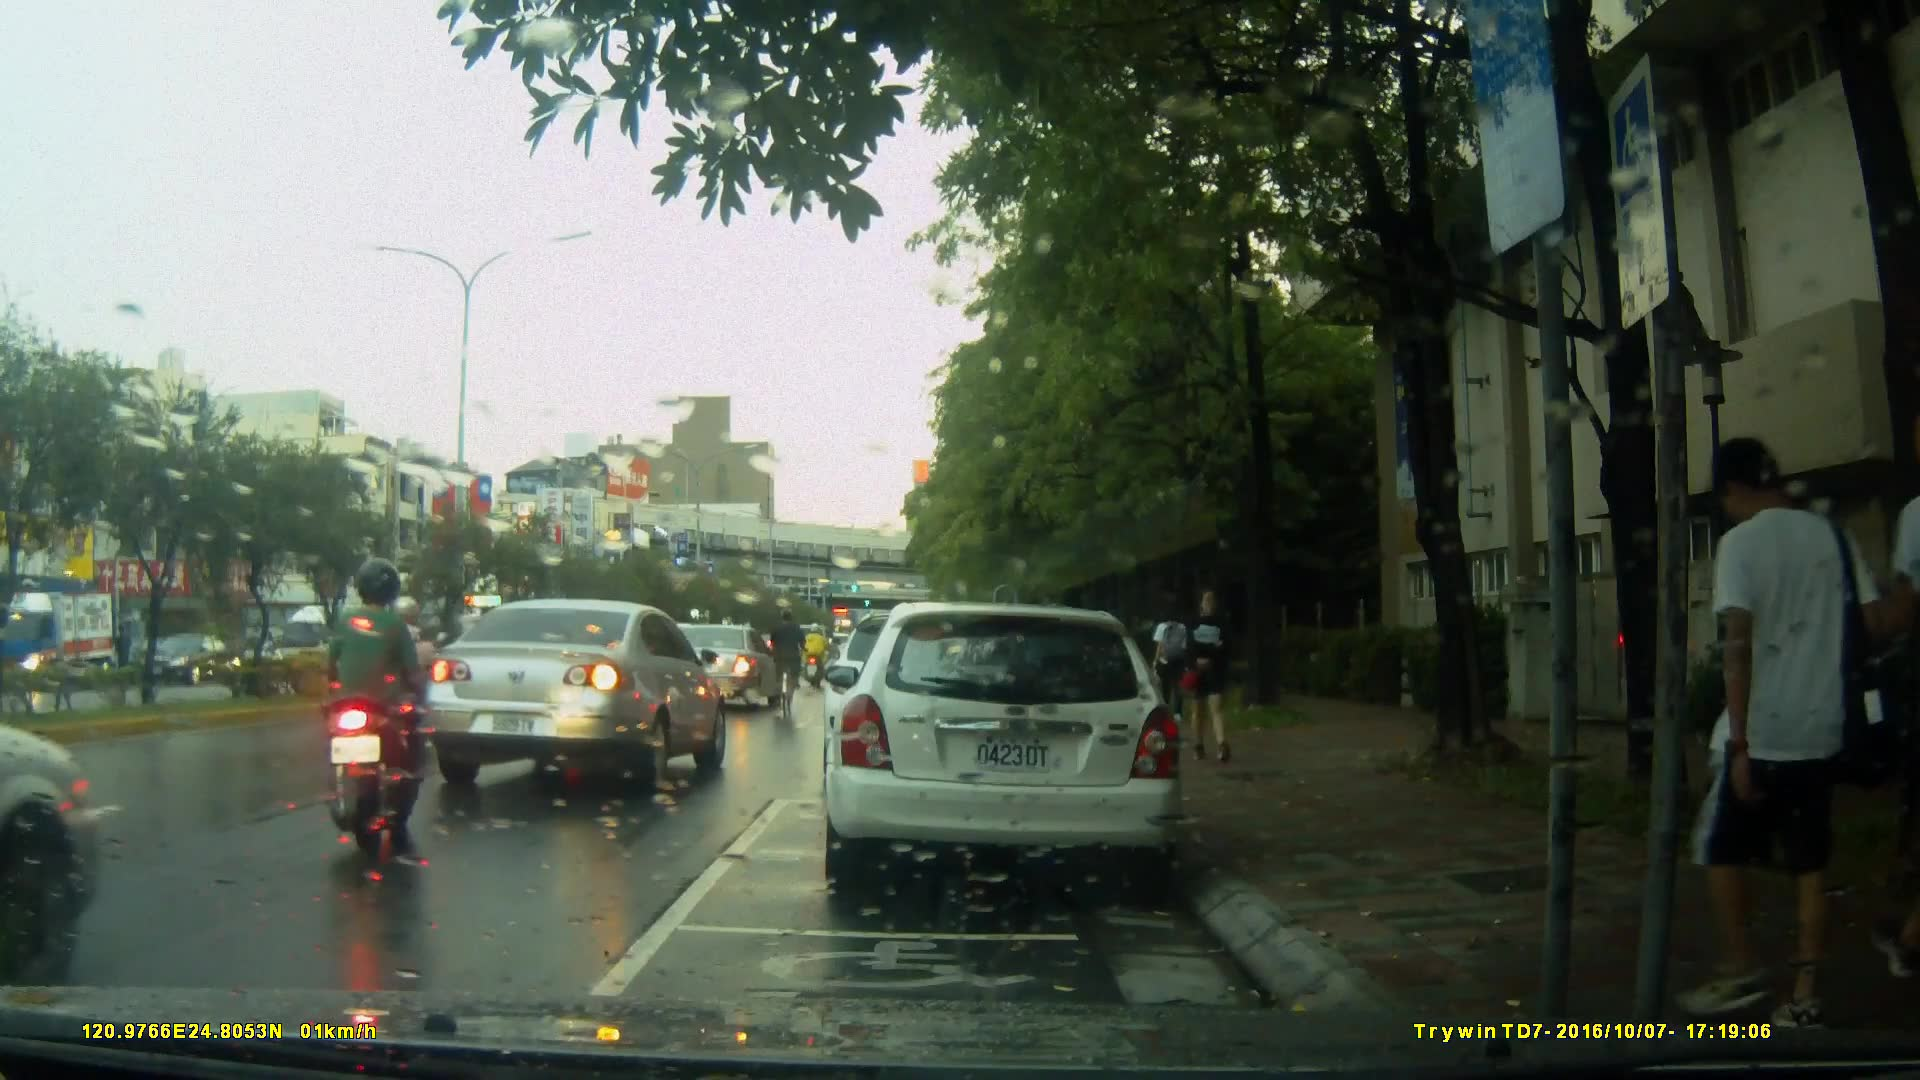pedestrian: (1671, 421, 1828, 1024), (1172, 586, 1232, 764), (1145, 604, 1193, 732)
rider: (313, 558, 415, 876), (342, 585, 444, 756), (767, 610, 803, 729), (803, 616, 832, 691)
vehicle: (820, 602, 1188, 898), (421, 595, 729, 797), (1, 587, 128, 699), (643, 624, 784, 714)
